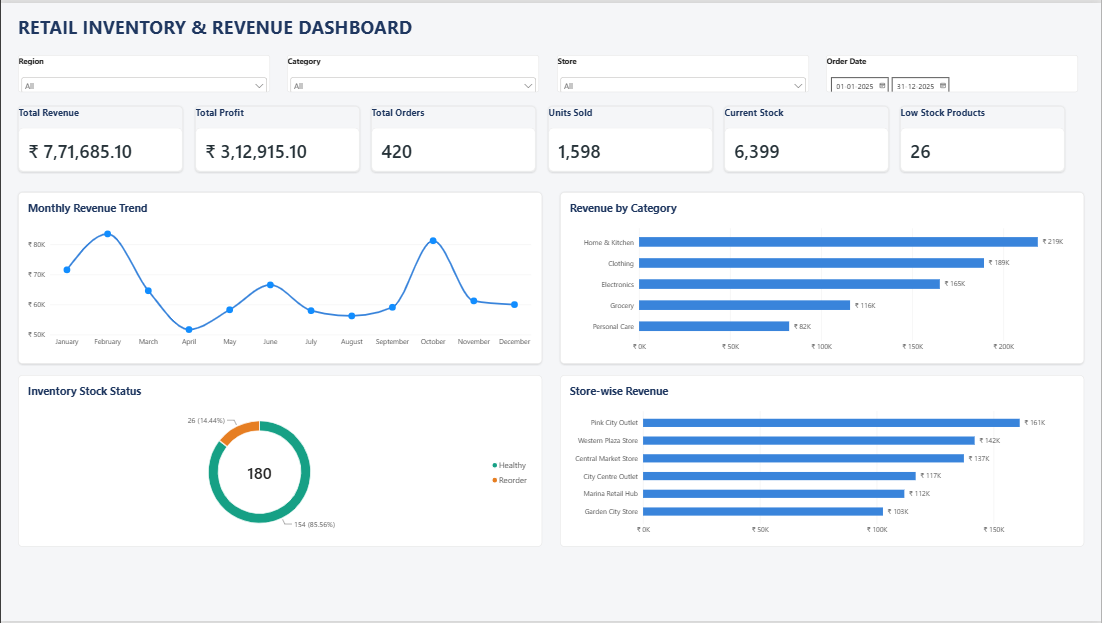

The page's visual inventory and layout, read from the dashboard file:
{"tool":"powerbi","page":{"name":"Inventory Dashboard","canvas":[1920,1080],"ordinal":0},"visuals":[{"type":"textbox","box":[30,20,1860,55],"z":0},{"type":"slicer","title":"Region","fields":{"Values":["retail_inventory stores.Region"]},"box":[30,90,440,65],"z":1000},{"type":"slicer","title":"Category","fields":{"Values":["retail_inventory products.Category"]},"box":[500,90,440,65],"z":1001},{"type":"slicer","title":"Store","fields":{"Values":["retail_inventory stores.Store_Name"]},"box":[970,90,440,65],"z":1002},{"type":"slicer","title":"Order Date","fields":{"Values":["retail_inventory sales.Order_Date"]},"box":[1440,90,440,65],"z":1003},{"type":"cardVisual","title":"Total Revenue","fields":{"Data":["retail_inventory inventory.Total Revenue"]},"box":[30,180,288,115],"z":1004},{"type":"cardVisual","title":"Total Profit","fields":{"Data":["retail_inventory inventory.Total Profit"]},"box":[338,180,288,115],"z":1005},{"type":"cardVisual","title":"Total Orders","fields":{"Data":["retail_inventory inventory.Total Orders"]},"box":[646,180,288,115],"z":1006},{"type":"cardVisual","title":"Units Sold","fields":{"Data":["retail_inventory sales.Units Sold"]},"box":[954,180,288,115],"z":1007},{"type":"cardVisual","title":"Current Stock","fields":{"Data":["retail_inventory inventory.Current Stock"]},"box":[1262,180,288,115],"z":1008},{"type":"cardVisual","title":"Low Stock Products","fields":{"Data":["retail_inventory inventory.Low Stock Combinations"]},"box":[1570,180,288,115],"z":1009},{"type":"lineChart","title":"Monthly Revenue Trend","fields":{"Category":["retail_inventory sales.Order_Date.Variation.Date Hierarchy.Month"],"Y":["retail_inventory inventory.Total Revenue"]},"box":[30,330,915,300],"z":1010},{"type":"clusteredBarChart","title":"Revenue by Category","fields":{"Category":["retail_inventory products.Category"],"Y":["retail_inventory inventory.Total Revenue"]},"box":[975,330,915,300],"z":1011},{"type":"donutChart","title":"Inventory Stock Status","fields":{"Category":["retail_inventory inventory.Stock_Status"],"Y":["CountNonNull(retail_inventory inventory.Product_ID)"]},"box":[30,650,915,300],"z":1012},{"type":"clusteredBarChart","title":"Store-wise Revenue","fields":{"Category":["retail_inventory stores.Store_Name"],"Y":["retail_inventory inventory.Total Revenue"]},"box":[975,650,915,300],"z":1013}]}

Visuals, with their boxes in screenshot pixels (x1, y1, x2, y2), scaled from the page's 1920x1080 canvas onto the 1102x623 screenshot:
textbox: <bbox>17, 12, 1085, 43</bbox>
"Region" slicer: <bbox>17, 52, 270, 89</bbox>
"Category" slicer: <bbox>287, 52, 540, 89</bbox>
"Store" slicer: <bbox>557, 52, 809, 89</bbox>
"Order Date" slicer: <bbox>826, 52, 1079, 89</bbox>
"Total Revenue" cardVisual: <bbox>17, 104, 183, 170</bbox>
"Total Profit" cardVisual: <bbox>194, 104, 359, 170</bbox>
"Total Orders" cardVisual: <bbox>371, 104, 536, 170</bbox>
"Units Sold" cardVisual: <bbox>548, 104, 713, 170</bbox>
"Current Stock" cardVisual: <bbox>724, 104, 890, 170</bbox>
"Low Stock Products" cardVisual: <bbox>901, 104, 1066, 170</bbox>
"Monthly Revenue Trend" lineChart: <bbox>17, 190, 542, 363</bbox>
"Revenue by Category" clusteredBarChart: <bbox>560, 190, 1085, 363</bbox>
"Inventory Stock Status" donutChart: <bbox>17, 375, 542, 548</bbox>
"Store-wise Revenue" clusteredBarChart: <bbox>560, 375, 1085, 548</bbox>
